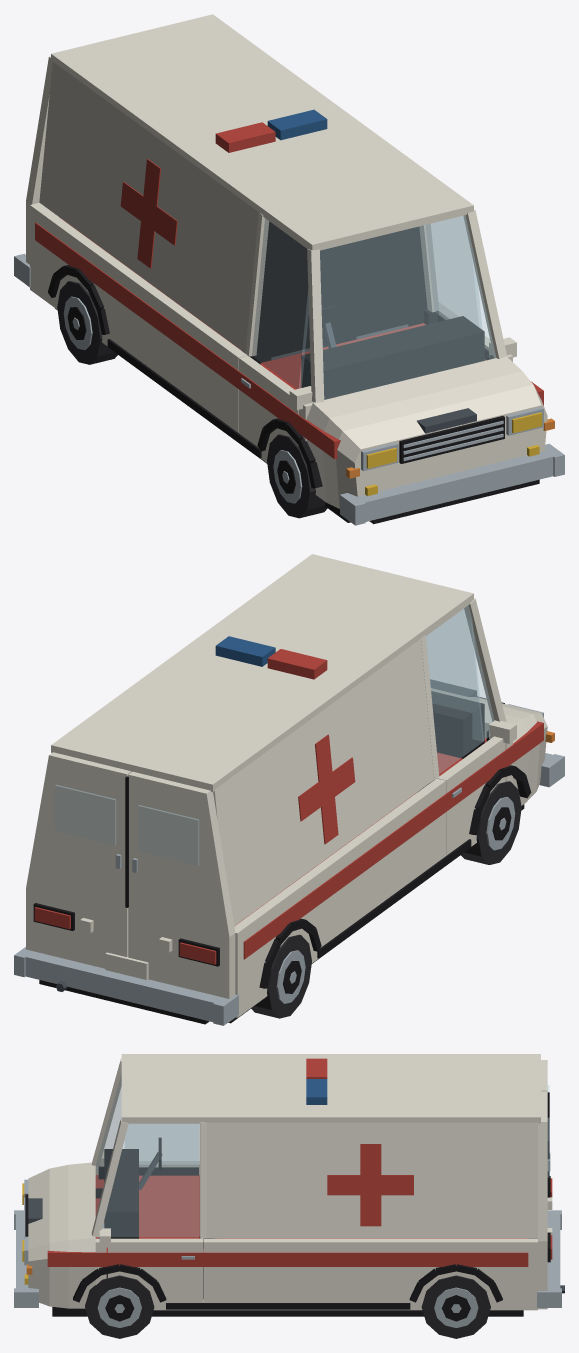
Rendered from GV_Ambulance_White_01.glb.
The picture shows the model from 3 angles, top to bottom: view 1: azimuth 30°, elevation 25°; view 2: azimuth 150°, elevation 25°; view 3: azimuth 270°, elevation 25°; orthographic projection. The views are drawn at different scales.
Visible parts, largest first — view 1: GV_Ambulance_White_01, Door_FR, Hood, Door_FL, Wheel_FR, Wheel_RR, RearDoor_R; view 2: GV_Ambulance_White_01, RearDoor_R, RearDoor_L, Door_FR, Wheel_FR, Wheel_RR, Hood; view 3: GV_Ambulance_White_01, Door_FL, Hood, Wheel_FL, Wheel_RL, Door_FR, RearDoor_L, RearDoor_R.
Boxes of the visible parts, x1=… form: GV_Ambulance_White_01: x1=14, y1=14, x2=564, y2=525; Door_FR: x1=238, y1=218, x2=313, y2=453; Hood: x1=306, y1=356, x2=532, y2=439; Door_FL: x1=426, y1=216, x2=516, y2=359; Wheel_FR: x1=267, y1=434, x2=327, y2=518; Wheel_RR: x1=57, y1=281, x2=117, y2=364; RearDoor_R: x1=26, y1=56, x2=58, y2=264; GV_Ambulance_White_01: x1=14, y1=554, x2=564, y2=1025; RearDoor_R: x1=128, y1=771, x2=235, y2=998; RearDoor_L: x1=26, y1=752, x2=148, y2=979; Door_FR: x1=426, y1=605, x2=516, y2=855; Wheel_FR: x1=461, y1=781, x2=521, y2=864; Wheel_RR: x1=251, y1=934, x2=311, y2=1018; Hood: x1=431, y1=689, x2=536, y2=743; GV_Ambulance_White_01: x1=14, y1=1054, x2=564, y2=1316; Door_FL: x1=99, y1=1124, x2=202, y2=1302; Hood: x1=49, y1=1162, x2=95, y2=1252; Wheel_FL: x1=85, y1=1274, x2=154, y2=1338; Wheel_RL: x1=421, y1=1275, x2=490, y2=1338; Door_FR: x1=99, y1=1124, x2=199, y2=1175; RearDoor_L: x1=538, y1=1091, x2=552, y2=1290; RearDoor_R: x1=541, y1=1060, x2=552, y2=1209.
Bounding box in the file's own units: 2.12 × 2.52 × 5.73.
Materials: 2 (2 with a texture image).
